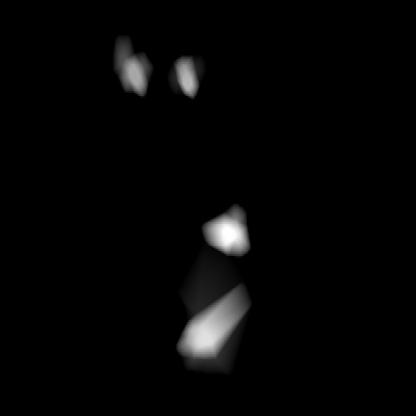palm: (115, 37, 199, 96)
thumb: (182, 199, 252, 364)
